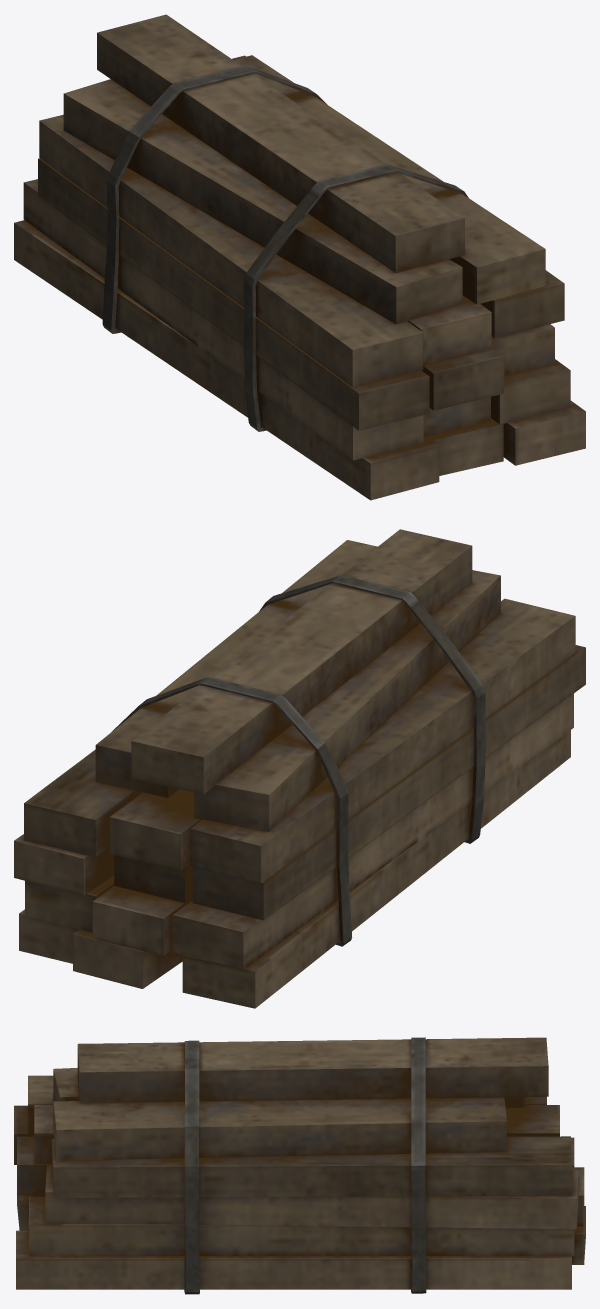
Rendered from Pile of Wood 2.fbx.
The picture shows the model from 3 angles, top to bottom: view 1: azimuth 30°, elevation 25°; view 2: azimuth 150°, elevation 25°; view 3: azimuth 270°, elevation 25°; orthographic projection. The views are drawn at different scales.
Visible parts, largest first — view 1: Cube.015; view 2: Cube.015; view 3: Cube.015.
Boxes of the visible parts, left/top/right/bottom form: Cube.015: left=14, top=14, right=585, bottom=500; Cube.015: left=14, top=529, right=585, bottom=1008; Cube.015: left=14, top=1037, right=585, bottom=1294.
Size of the model in its own units: 103 by 92.62 by 254.
